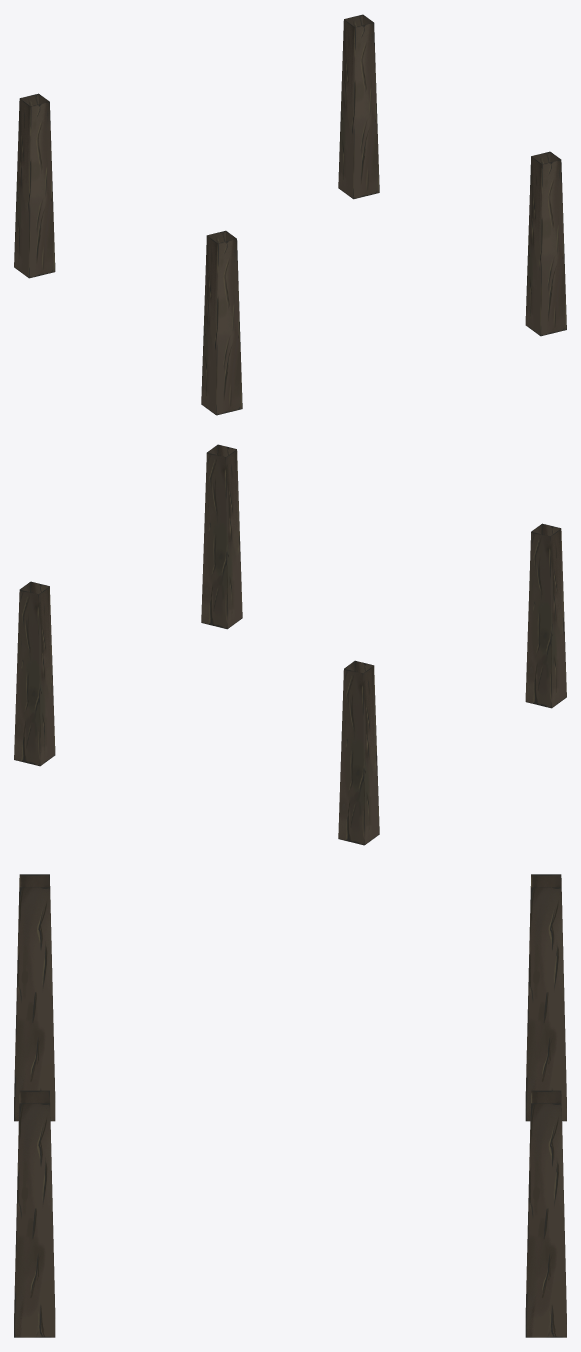
Rendered from polysurface580_txt_poutrev_base_0_lev1_lev2.glb.
The picture shows the model from 3 angles, top to bottom: view 1: azimuth 30°, elevation 25°; view 2: azimuth 150°, elevation 25°; view 3: azimuth 270°, elevation 25°; orthographic projection. The views are drawn at different scales.
Visible parts, largest first — view 1: polysurface580_txt_poutrev_base_0_lev1_lev2; view 2: polysurface580_txt_poutrev_base_0_lev1_lev2; view 3: polysurface580_txt_poutrev_base_0_lev1_lev2.
Boxes of the visible parts, x1,y1,x2,y2 form: polysurface580_txt_poutrev_base_0_lev1_lev2: (14,14,566,415); polysurface580_txt_poutrev_base_0_lev1_lev2: (14,444,566,845); polysurface580_txt_poutrev_base_0_lev1_lev2: (14,874,566,1337).
Size of the model in its own units: 6.63 by 3.07 by 6.63.
1 material, 1 textured.
